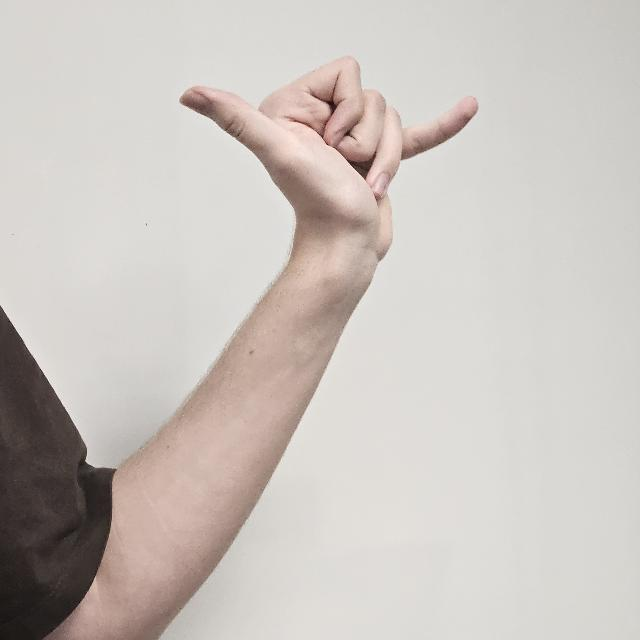Direita: (173, 26, 492, 262)
